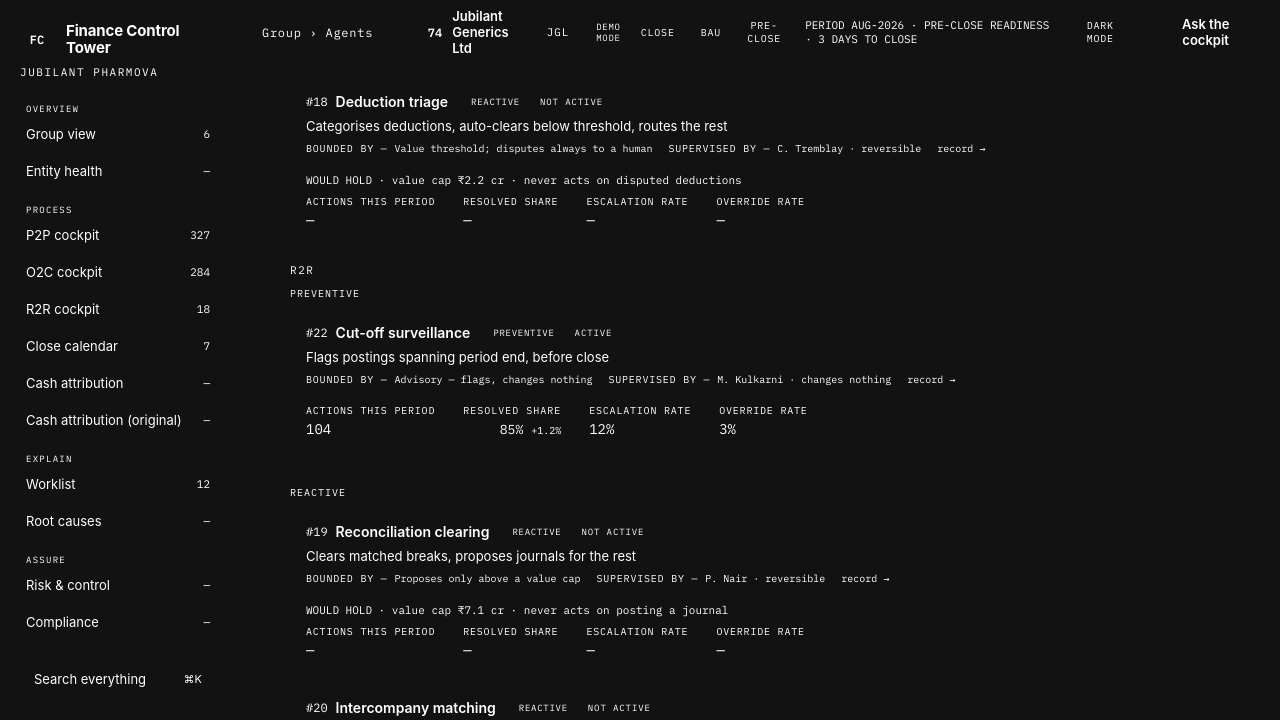
Test case: Agents screen (§15.5) › Step 27 — the four R2R agents: cut-off surveillance is live and advisory; the other three are designed (§16.6)
(page scrolled)
Click the button that starts with "Cut-off surveillance" at (403,333), box [306,324,955,460]
(page scrolled)
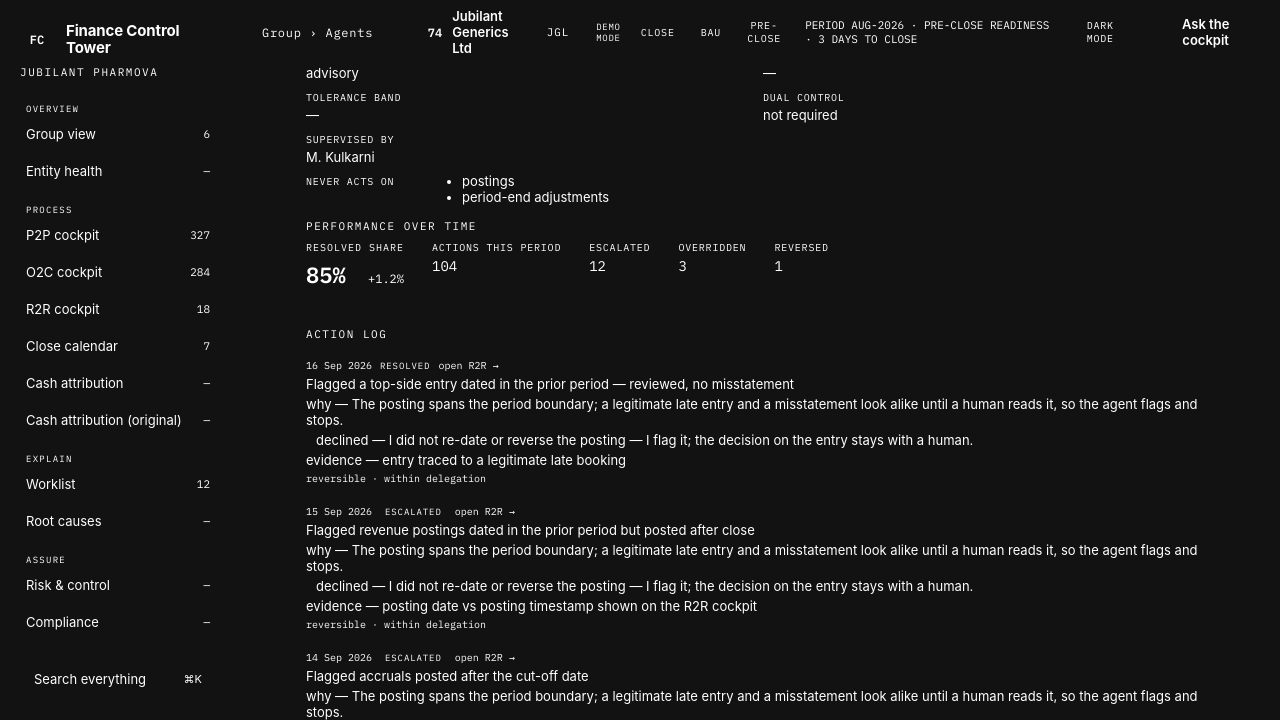
Check: the element that starts with "Simulated data" shows "advisory", box [306,65,359,81]
Check: the element that starts with "Simulated data" shows "The posting spans the period boundary", box [306,396,1198,428]
Check: the element that starts with "Simulated data" shows "I did not re-date or reverse the posting", box [316,432,973,448]
